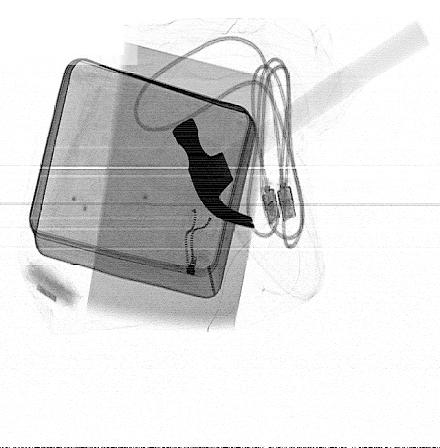Hammer: (172, 19, 430, 229)
